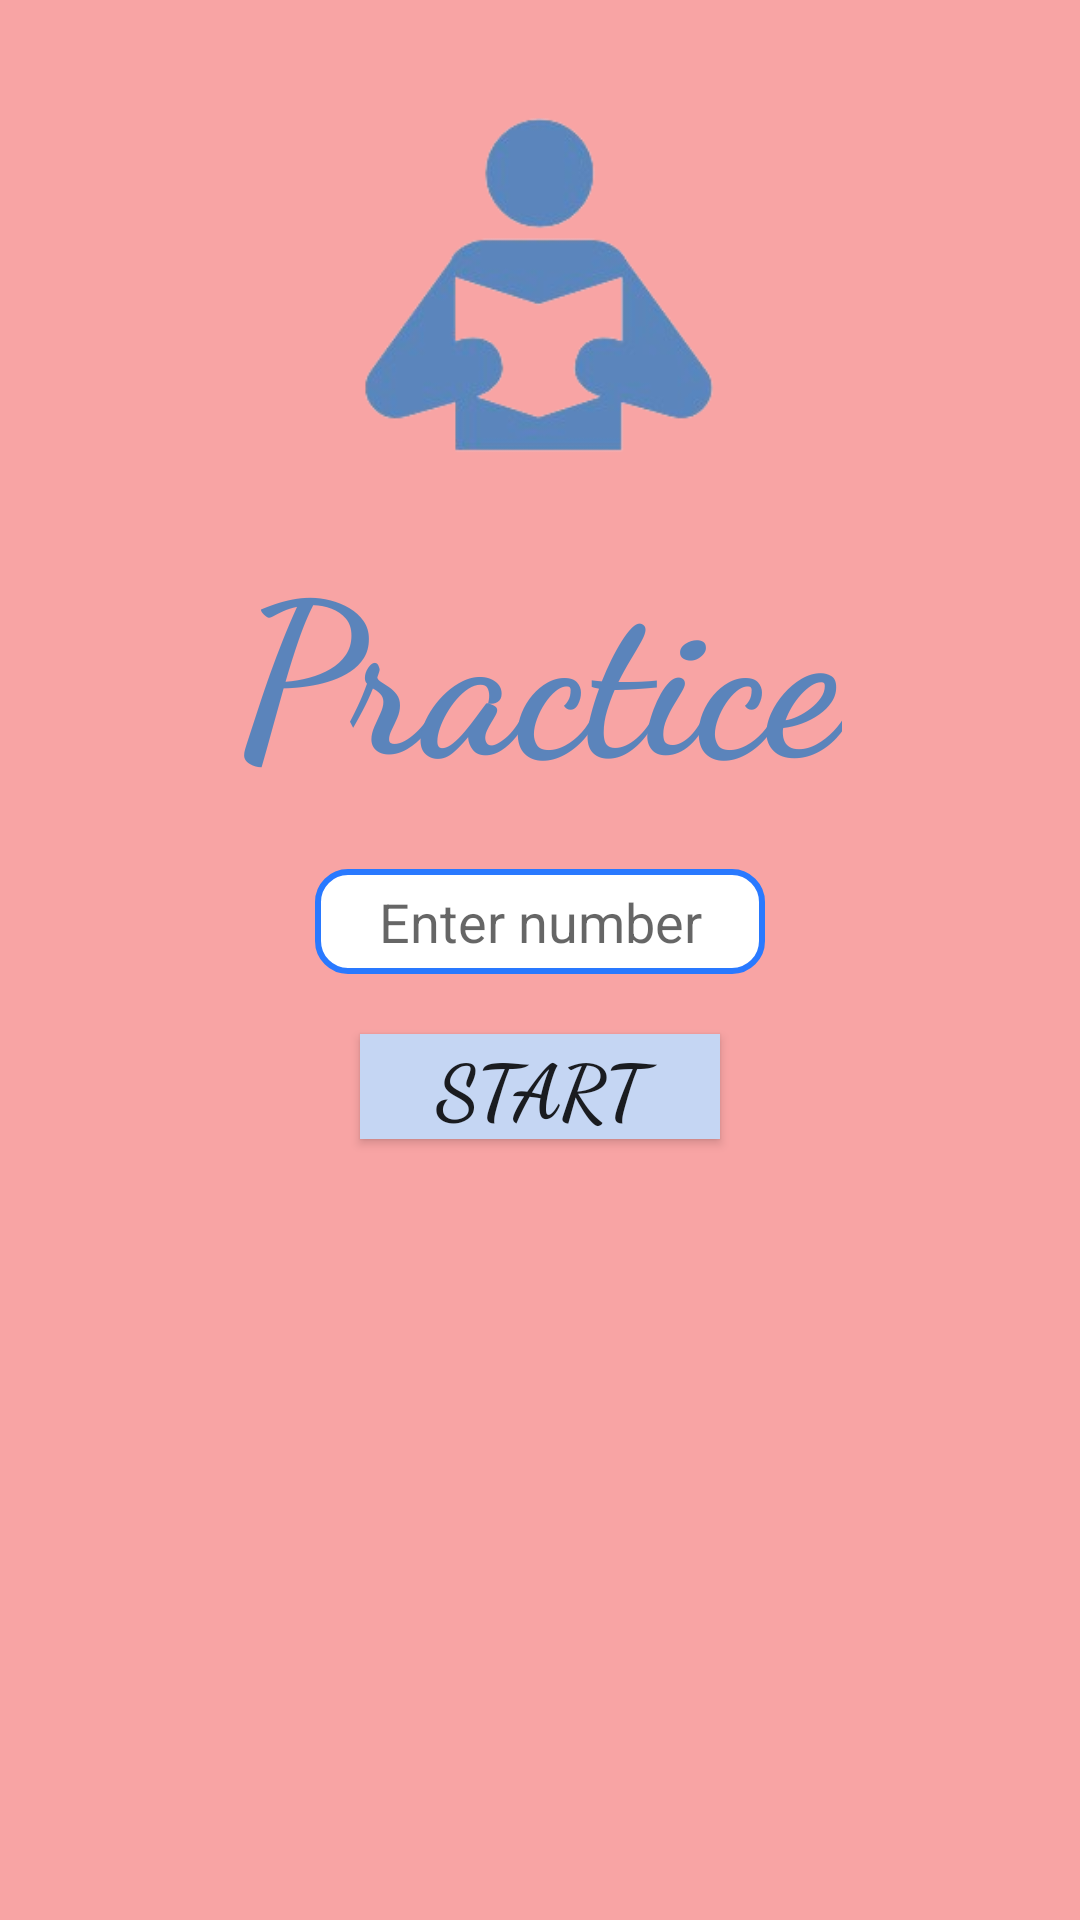

Icon click points for this 1080w x 1920h phone screenshot, format (x,y):
Image of teacher (vector image): (539,284)
